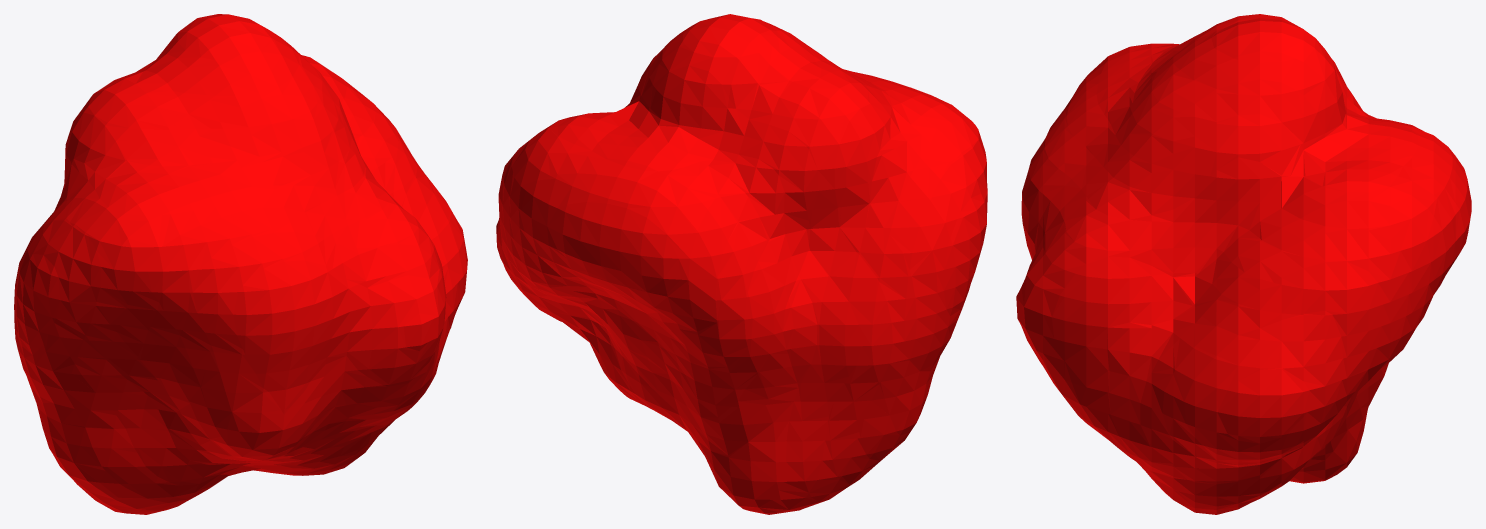
The model's file is yacL_coarse.dae.
The picture shows the model from 3 angles, left to right: view 1: azimuth 30°, elevation 25°; view 2: azimuth 150°, elevation 25°; view 3: azimuth 270°, elevation 25°; orthographic projection. The views are drawn at different scales.
Visible parts, largest first — view 1: yacL; view 2: yacL; view 3: yacL.
Boxes of the visible parts, bbox=[...] form: yacL: bbox=[14, 14, 467, 514]; yacL: bbox=[496, 14, 987, 514]; yacL: bbox=[1016, 14, 1471, 514].
Size of the model in its own units: 40.96 by 40.8 by 34.77.
